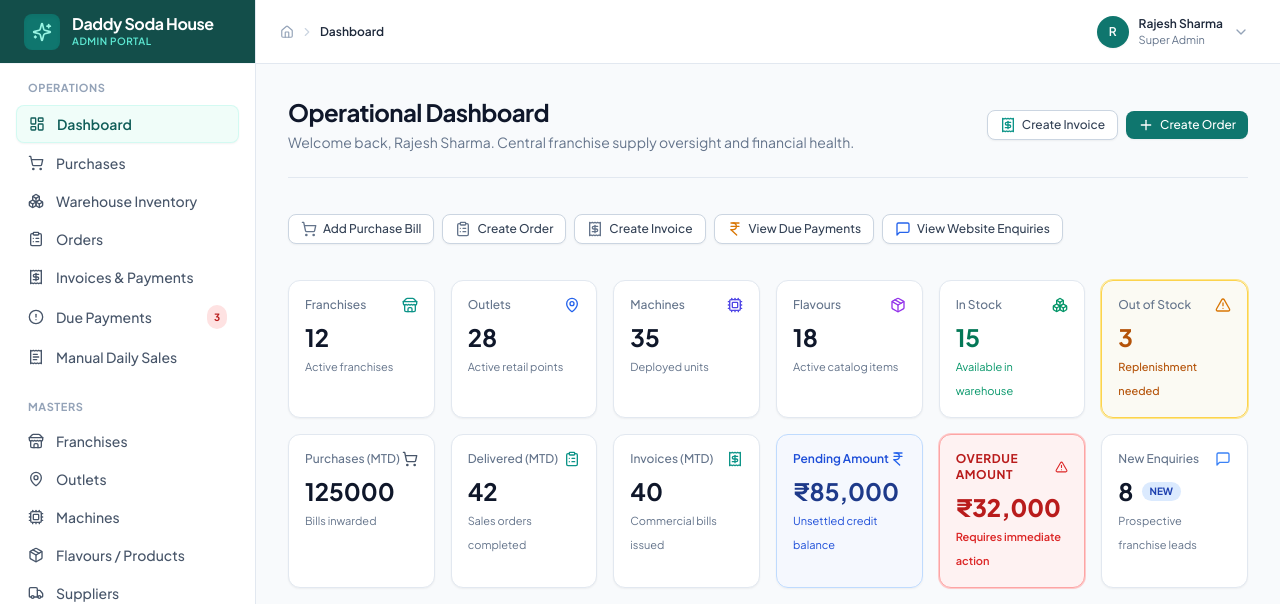
Test case: Daddy Soda House Dashboard, Reports & Enquiries Module (FE-06) › Dashboard quick actions link to correct routes
Expected: the heading "Operational Dashboard" is shown, [288,96,549,128]
Expected: the button "Add Purchase Bill" is shown, [288,214,434,244]
Note: Click "View Due Payments" quick action
Click the button "View Due Payments".
click(794, 229)  # box [714,214,874,244]
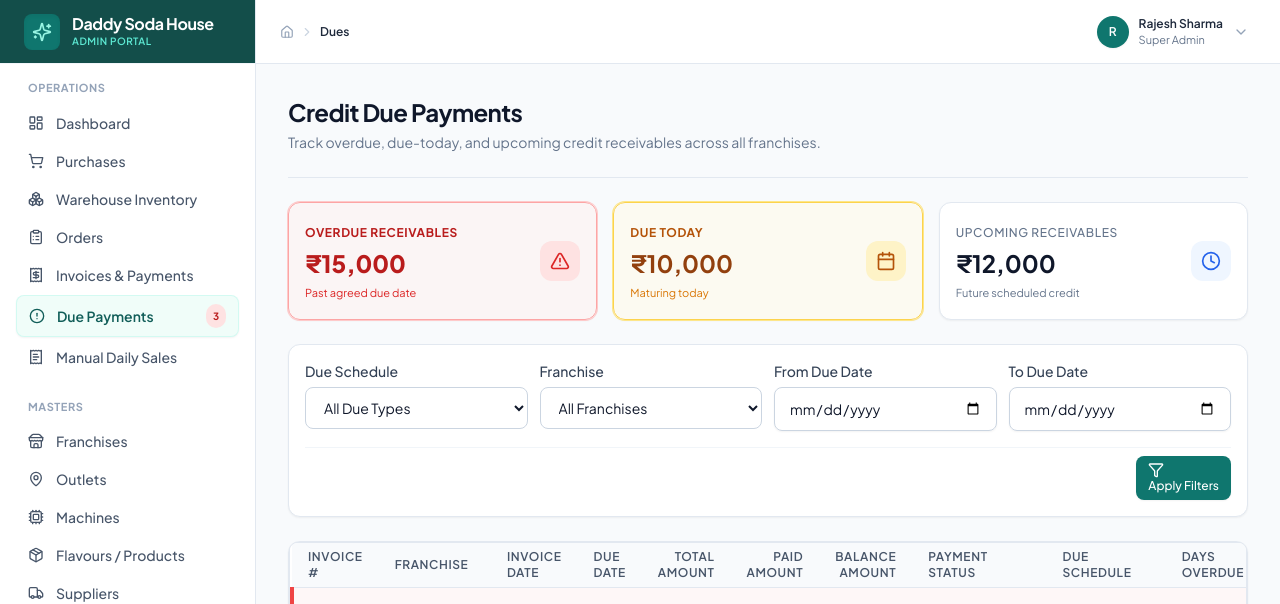
Expected: the heading "Credit Due Payments" is shown, [288,96,522,128]
